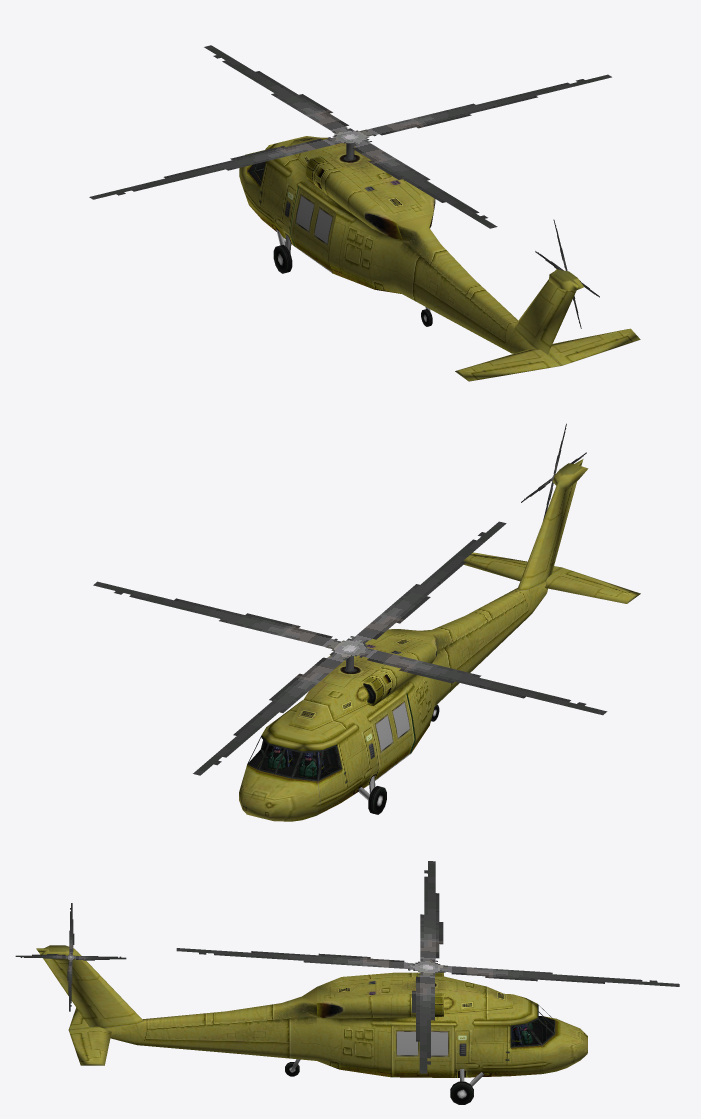
File: BLACKHAWK_UH60.glb
The picture shows the model from 3 angles, top to bottom: view 1: azimuth 30°, elevation 25°; view 2: azimuth 150°, elevation 25°; view 3: azimuth 270°, elevation 25°; orthographic projection. The views are drawn at different scales.
Parts seen in each view (by area): view 1: BH-BODY1, BLADES_MOTION, BH-DOORS; view 2: BH-BODY1, BLADES_MOTION, BH-DOORS; view 3: BH-BODY1, BLADES_MOTION, BH-DOORS, BLADES_MOTION1.
Boxes of the visible parts, x1,y1,x2,y2 form: BH-BODY1: (239,136,640,381); BLADES_MOTION: (89,45,611,228); BH-DOORS: (290,186,336,271); BH-BODY1: (239,459,640,821); BLADES_MOTION: (93,521,607,775); BH-DOORS: (371,694,414,779); BH-BODY1: (36,945,587,1104); BLADES_MOTION: (176,861,679,1073); BH-DOORS: (391,1025,454,1077); BLADES_MOTION1: (15,903,126,1011).
Bounding box in the file's own units: 14.87 × 5.69 × 19.28.
6 materials, 5 textured.
